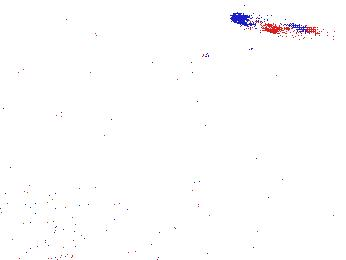red belly glassfish: (161, 50, 213, 71)
redtail glassfish: (224, 10, 315, 40)
